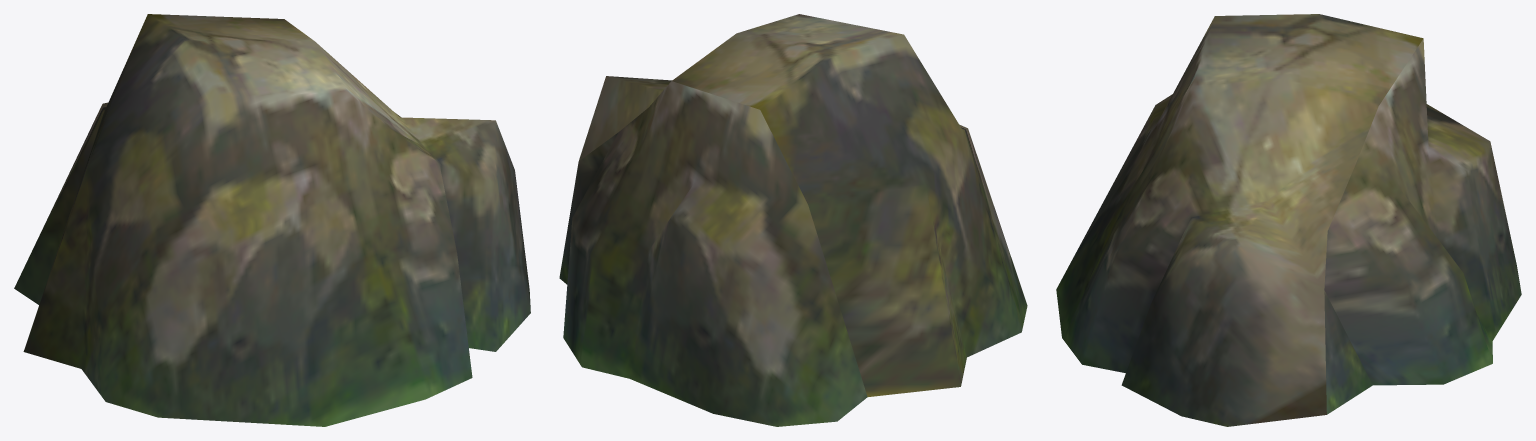
File: rock04.FBX
3 renders of one model, left to right at view 1: azimuth 30°, elevation 25°; view 2: azimuth 150°, elevation 25°; view 3: azimuth 270°, elevation 25°, orthographic. The views are drawn at different scales.
Visible parts, largest first — view 1: M_a1; view 2: M_a1; view 3: M_a1.
Boxes of the visible parts, box(x1,y1,x2,y2) form: M_a1: box(14, 14, 530, 426); M_a1: box(559, 14, 1027, 426); M_a1: box(1056, 14, 1521, 426).
Size of the model in its own units: 71.67 by 44.22 by 68.03.
